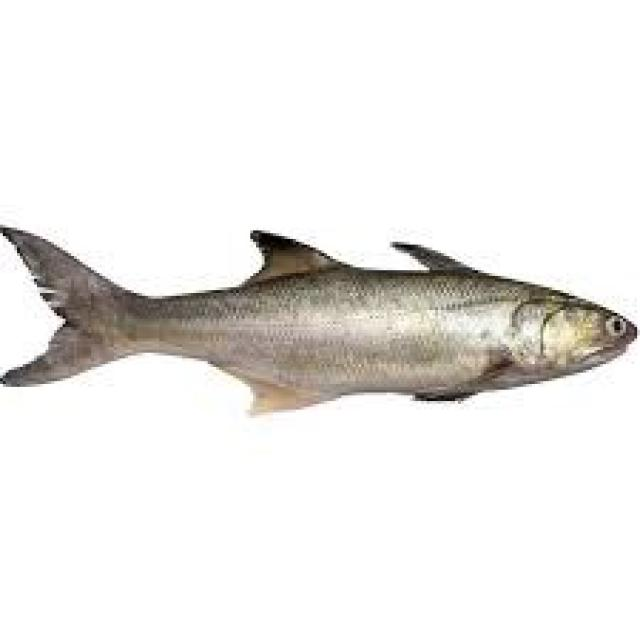Fourfinger-Threadfin: (0, 159, 640, 445)
